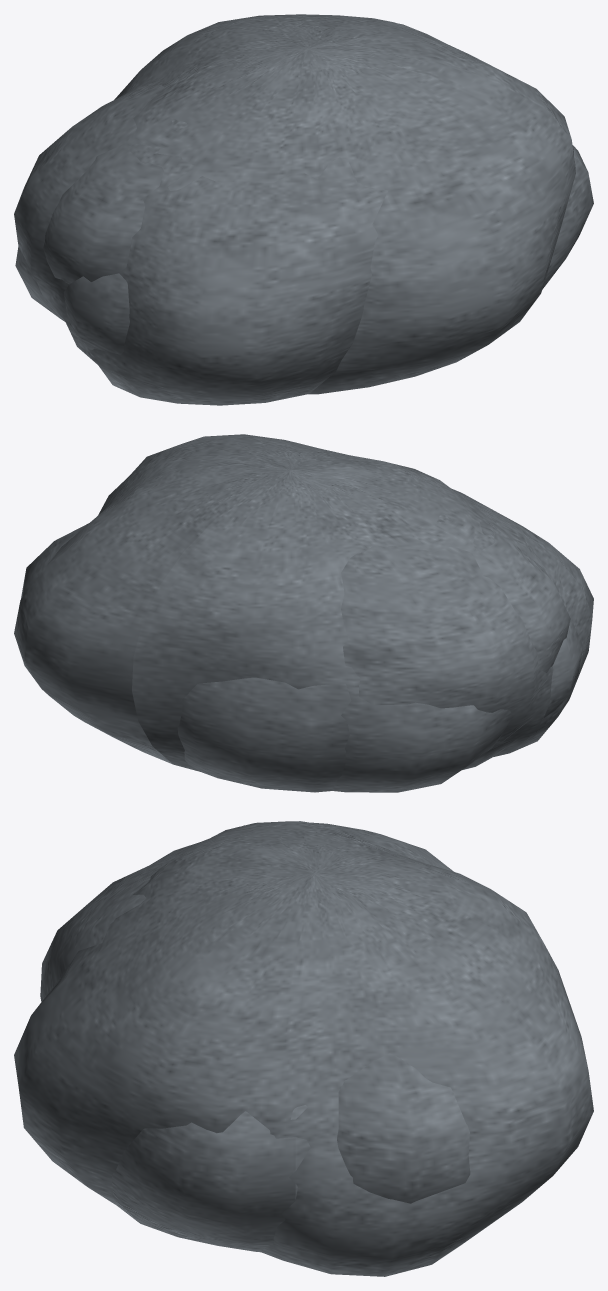
Rendered from guti_pebble_variations.glb.
The picture shows the model from 3 angles, top to bottom: view 1: azimuth 30°, elevation 25°; view 2: azimuth 150°, elevation 25°; view 3: azimuth 270°, elevation 25°; orthographic projection. The views are drawn at different scales.
Visible parts, largest first — view 1: dark_variation_3, dark_variation_2, dark_variation_1; view 2: dark_variation_3, dark_variation_2, dark_variation_1; view 3: dark_variation_3, dark_variation_2, dark_variation_1.
Part boxes in pixels (x1,y1,x2,y2): dark_variation_3: [15, 14, 575, 394]; dark_variation_2: [14, 80, 387, 405]; dark_variation_1: [64, 145, 593, 354]; dark_variation_3: [14, 434, 570, 792]; dark_variation_2: [21, 488, 593, 792]; dark_variation_1: [462, 615, 583, 769]; dark_variation_3: [14, 821, 593, 1276]; dark_variation_2: [40, 821, 470, 1203]; dark_variation_1: [111, 1105, 310, 1252].
Bounding box in the file's own units: 0.025 × 0.0122 × 0.022.
Materials: 2 (2 with a texture image).
